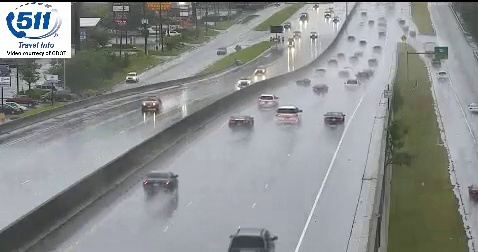car: (227, 228, 276, 252), (144, 171, 177, 193), (275, 105, 300, 123), (228, 115, 253, 129), (257, 94, 278, 109), (324, 112, 344, 126)
